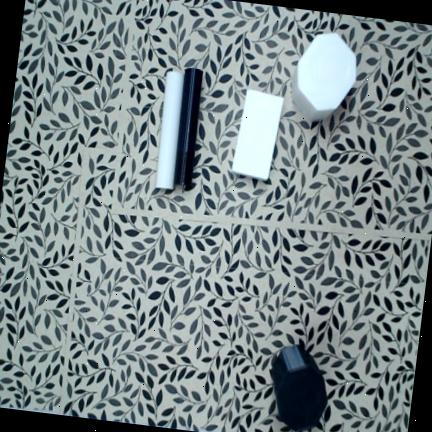Cilindro: (174, 67, 203, 186), (155, 70, 184, 189)
Paralelepipedo: (231, 88, 284, 180)
Prisma_hexagonal: (291, 32, 356, 120), (270, 344, 327, 430)
